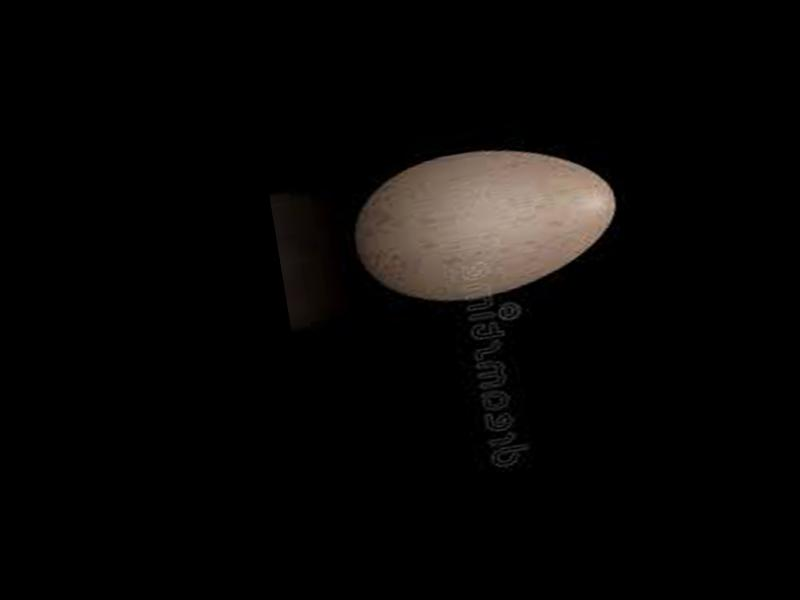Eggs: (343, 129, 628, 314)
